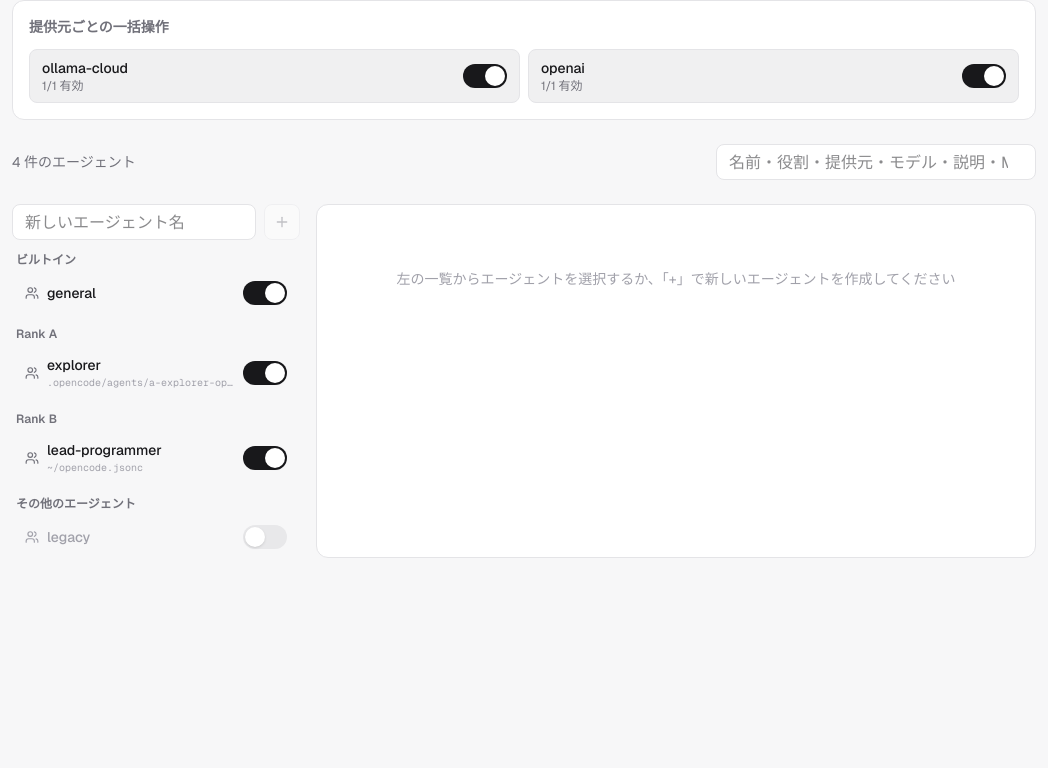
it: AgentsSettings › filters by enabled/disabled state
The image size is (1048, 768).
Expected: the heading "Rank A" is shown, 16,326 -> 57,342
In the search field named "エージェントを検索": (876, 162) 716,144 -> 1036,180, type "無効"
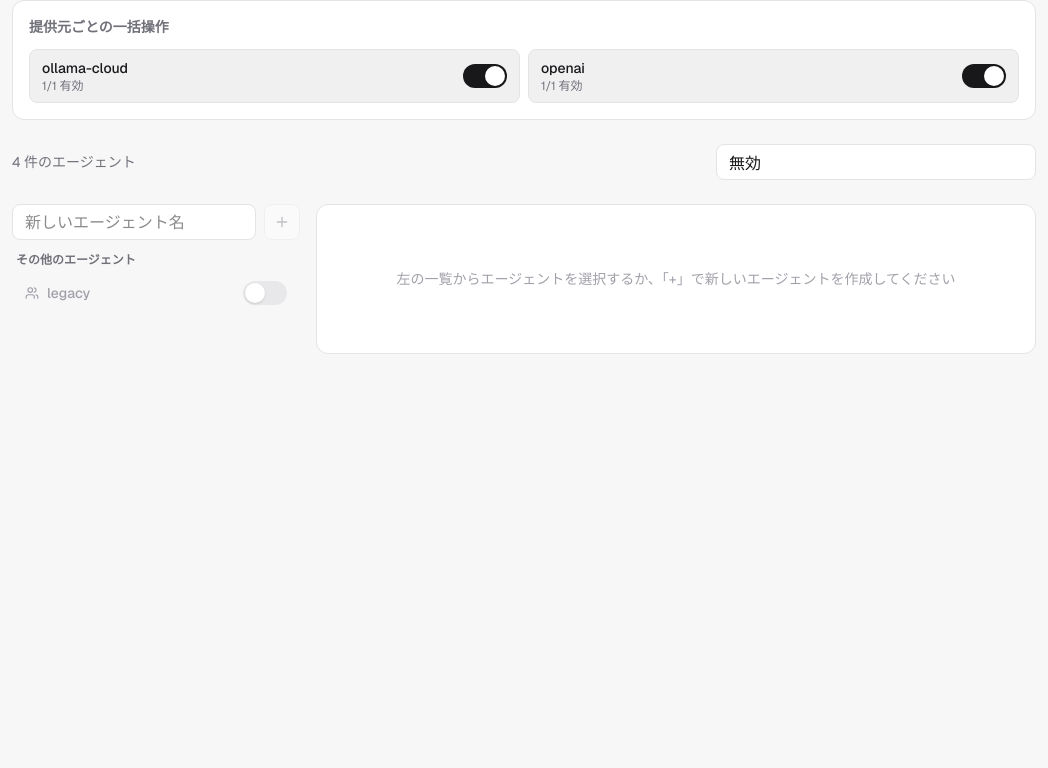
Expected: the text "legacy" is shown, 47,283 -> 90,303
Expected: the heading "Rank A" is gone
Expected: the heading "Rank B" is gone
